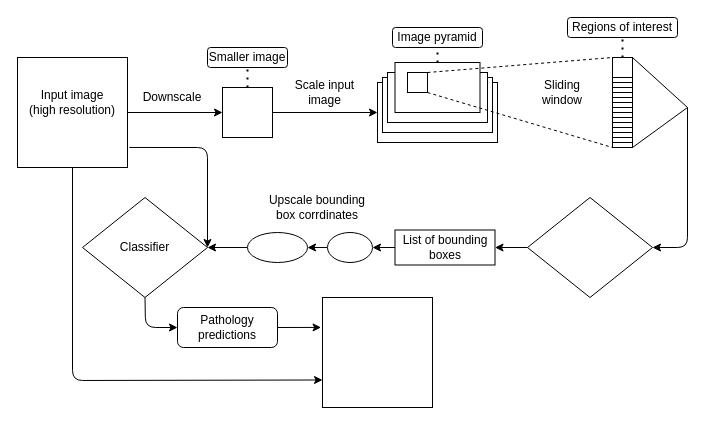
Some shapes in this 713 by 425 pixel diagram are drawn without their labels. The shapes that lost their labels are listed below. From the top down, each one's centre as x and y in pixels, then its label:
At (x=277, y=247): "299x299".
At (x=349, y=247): "32x32".
At (x=589, y=247): "Region Proposal Network".
At (x=377, y=352): "Original image with pathology bounding boxes".
